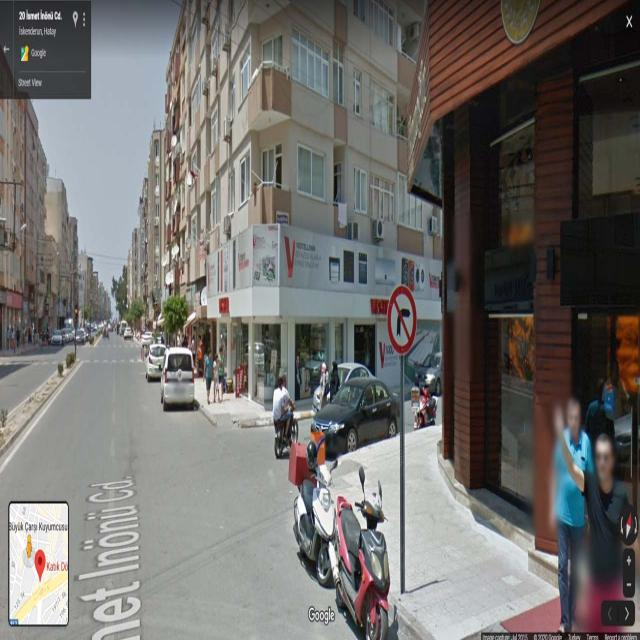sagadonulmez: (387, 286, 417, 352)
